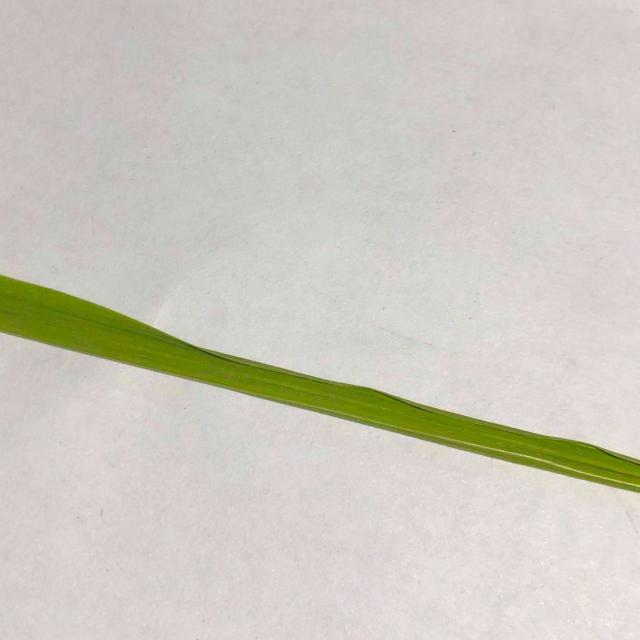Rice_Healthy: (0, 276, 640, 493)
